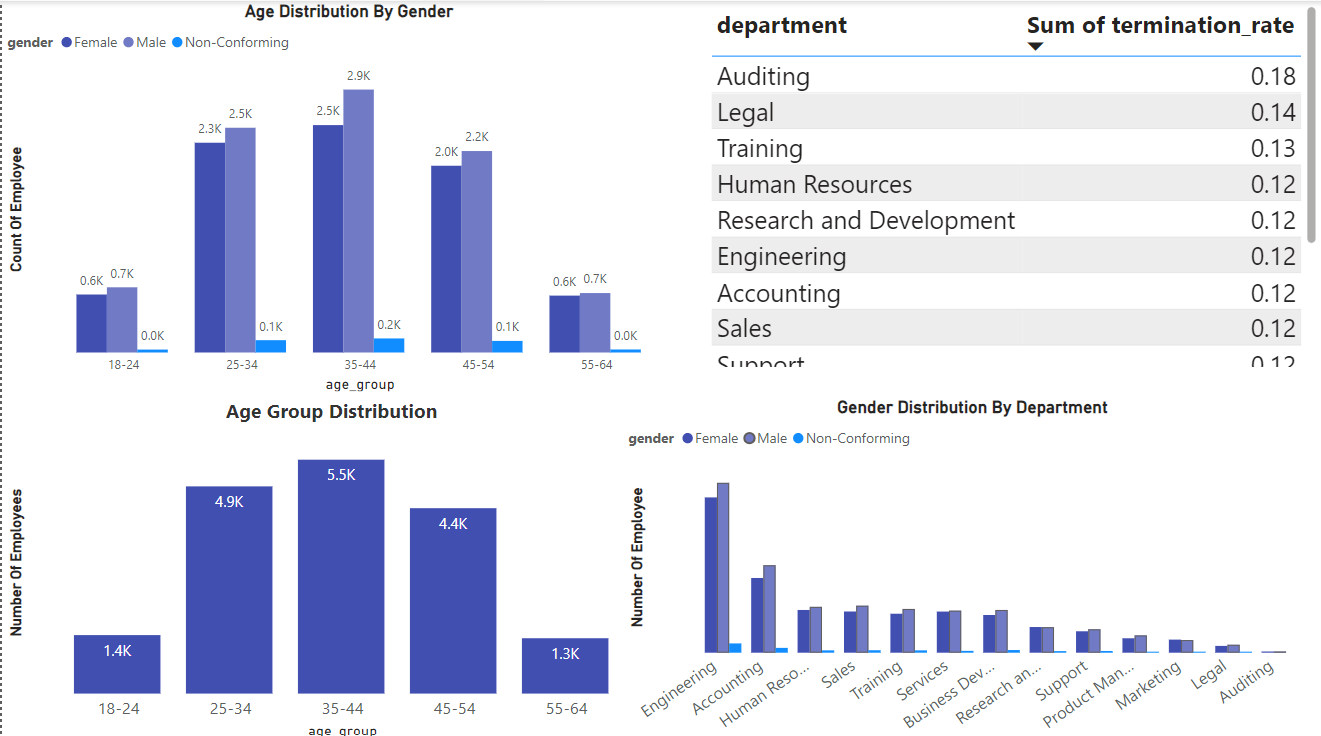

The page's visual inventory and layout, read from the dashboard file:
{"tool":"powerbi","page":{"name":"Page 2","canvas":[1280,720],"ordinal":1},"visuals":[{"type":"columnChart","title":"Age Group Distribution","fields":{"Category":["age_group.age_group"],"Y":["Sum(age_group.COUNT)"]},"box":[0,383.8,639.6,336.8],"z":0},{"type":"clusteredColumnChart","title":"Age Distribution By Gender","fields":{"Category":["age_group_gender.age_group"],"Y":["Sum(age_group_gender.COUNT)"],"Series":["age_group_gender.gender"]},"box":[0,0,673.6,383.8],"z":1000},{"type":"tableEx","fields":{"Values":["turnover_rate.department","Sum(turnover_rate.termination_rate)"]},"box":[683.3,0,597.5,359.5],"z":2000},{"type":"clusteredColumnChart","title":"Gender Distribution By Department","fields":{"Category":["gender_department.department"],"Y":["Sum(gender_department.COUNT)"],"Series":["gender_department.gender"]},"box":[602.4,383.8,678.5,336.8],"z":3000}]}

Visuals, with their boxes in screenshot pixels (x1, y1, x2, y2), scaled from the page's 1280x720 canvas onto the 1321x736 screenshot:
"Age Group Distribution" columnChart: [0, 392, 660, 735]
"Age Distribution By Gender" clusteredColumnChart: [0, 0, 695, 392]
tableEx - turnover_rate.department x Sum(turnover_rate.termination_rate): [705, 0, 1320, 367]
"Gender Distribution By Department" clusteredColumnChart: [622, 392, 1320, 735]
